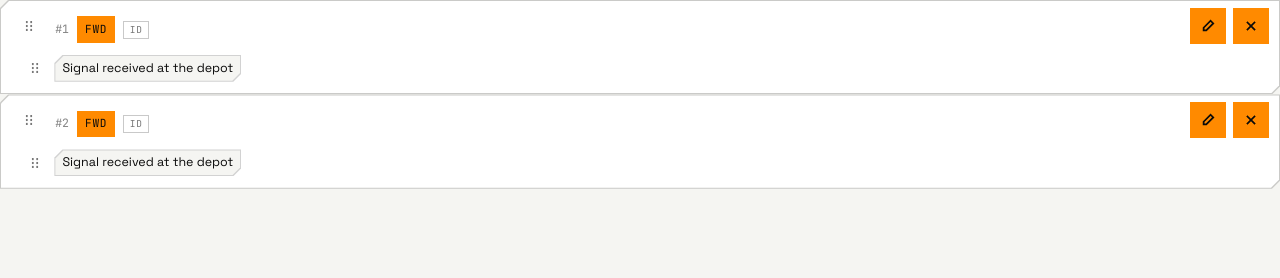
Test: MomentBox › two moment boxes can be edited simultaneously without losing either draft
The width and height of the screenshot is (1280, 278).
Click the button named "Edit moment" in the row of "#1" at (1208, 26), box [1190,8,1226,44]
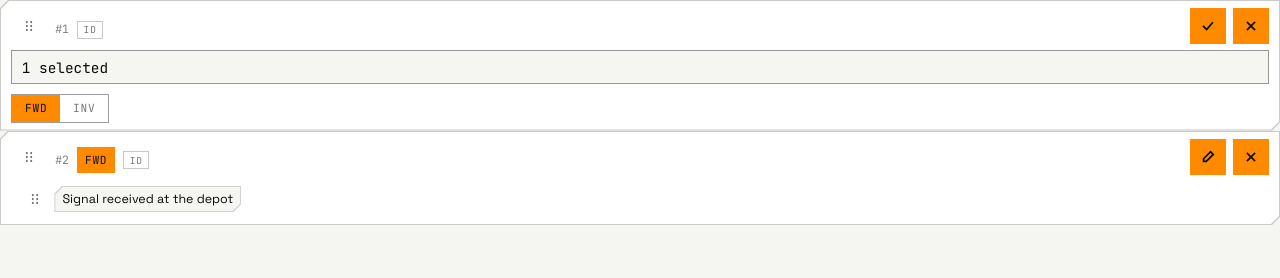
Click the button named "Edit moment" at (1208, 156), box [1190,138,1226,174]
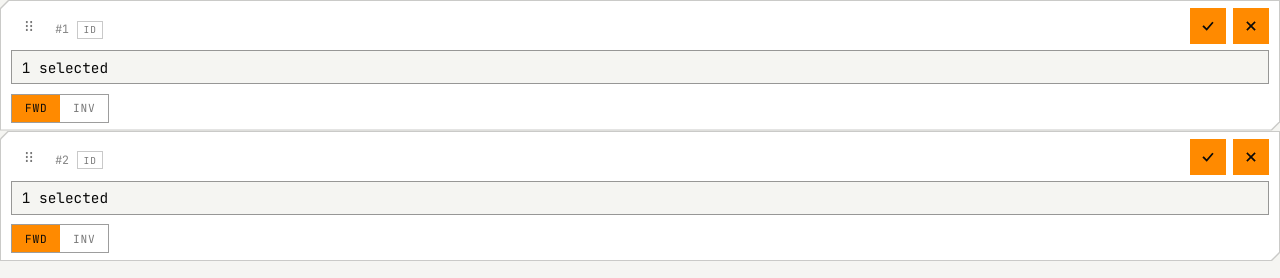
Result: the button with class "combobox-trigger" below "#2" is shown at [11,181,1269,215]
